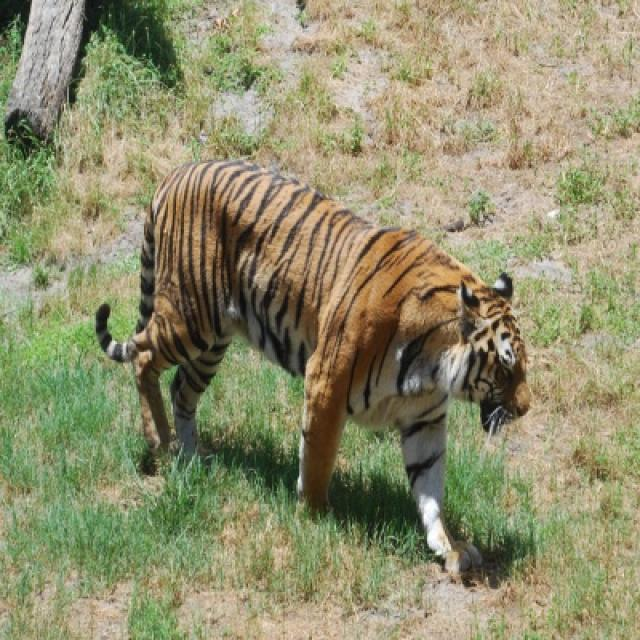Tiger: (96, 160, 528, 573)
